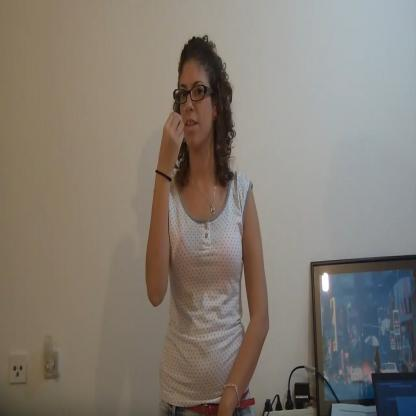Food: (146, 33, 242, 228)
